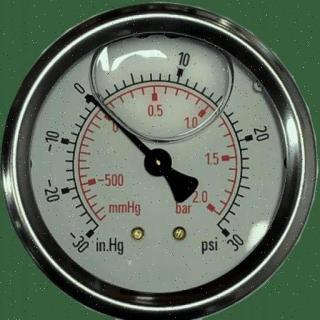gauge: (16, 12, 306, 312), (198, 213, 246, 257), (143, 147, 173, 177), (79, 216, 101, 252), (82, 91, 96, 105)
